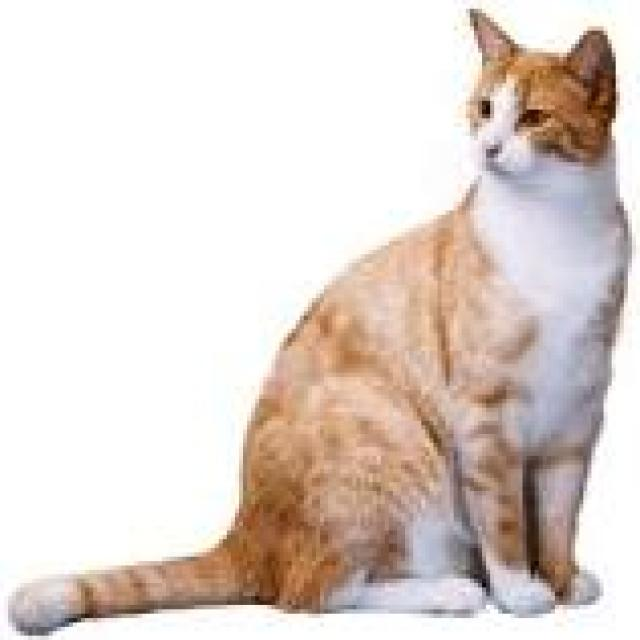cat: (4, 0, 640, 636)
